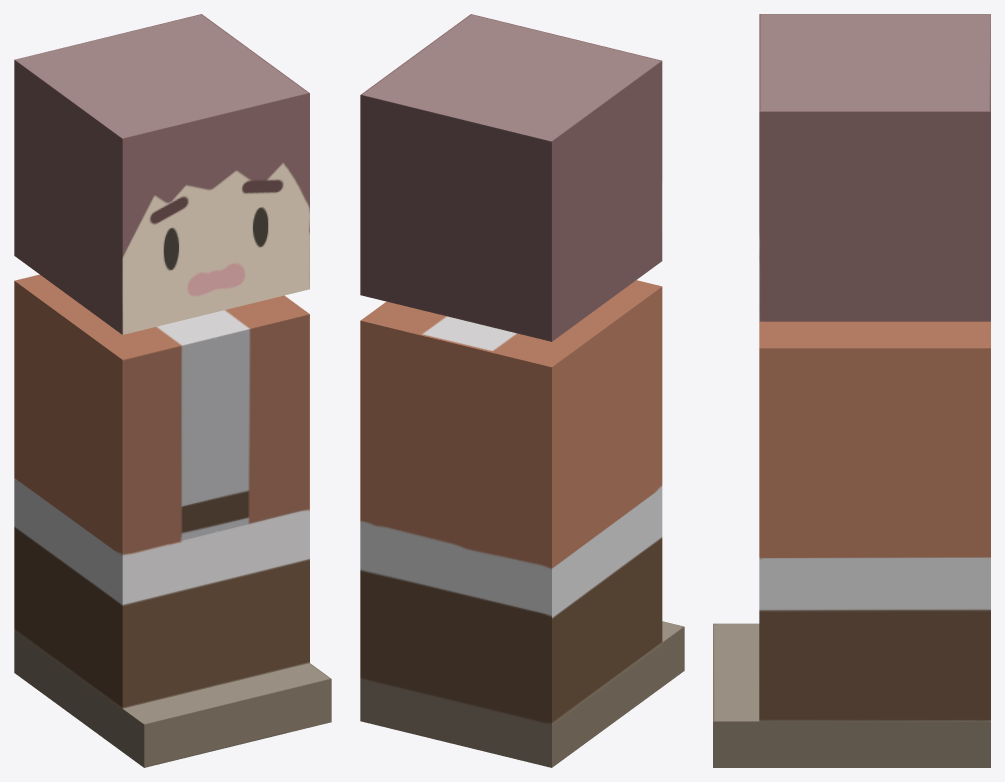
File: CHMD_villager_m_02.fbx
3 views of the same model, side by side, from view 1: azimuth 30°, elevation 25°; view 2: azimuth 150°, elevation 25°; view 3: azimuth 270°, elevation 25° (orthographic). The views are drawn at different scales.
Visible parts, largest first — view 1: body, head; view 2: body, head; view 3: body, head.
Boxes of the visible parts, left/top/right/bottom form: body: left=14, top=274, right=331, bottom=767; head: left=14, top=14, right=309, bottom=334; body: left=360, top=280, right=684, bottom=767; head: left=360, top=14, right=662, bottom=341; body: left=713, top=321, right=990, bottom=767; head: left=759, top=14, right=990, bottom=321.
Bounding box in the file's own units: 50 × 156 × 60.
Materials: 1 (1 with a texture image).
